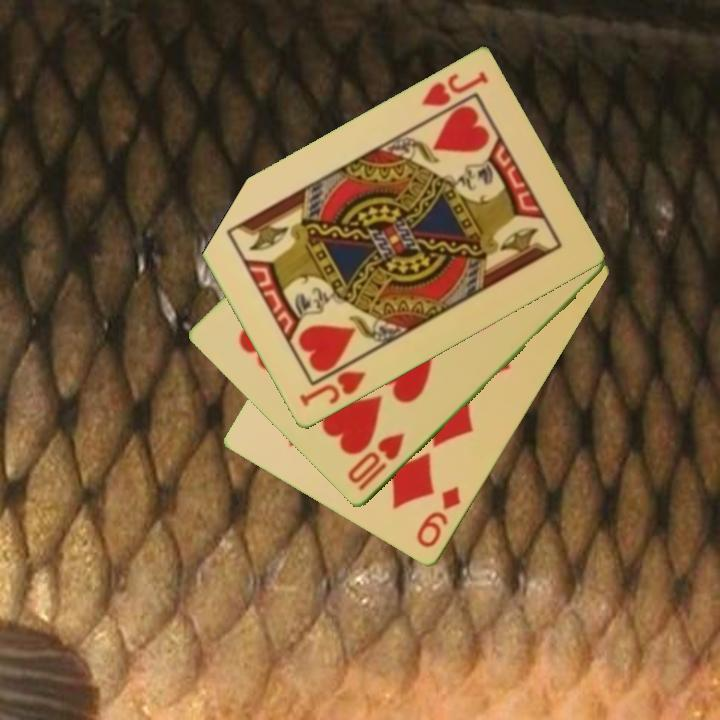10h: (344, 430, 408, 495)
9d: (413, 483, 465, 552)
Jh: (295, 367, 369, 410), (418, 68, 491, 111)
